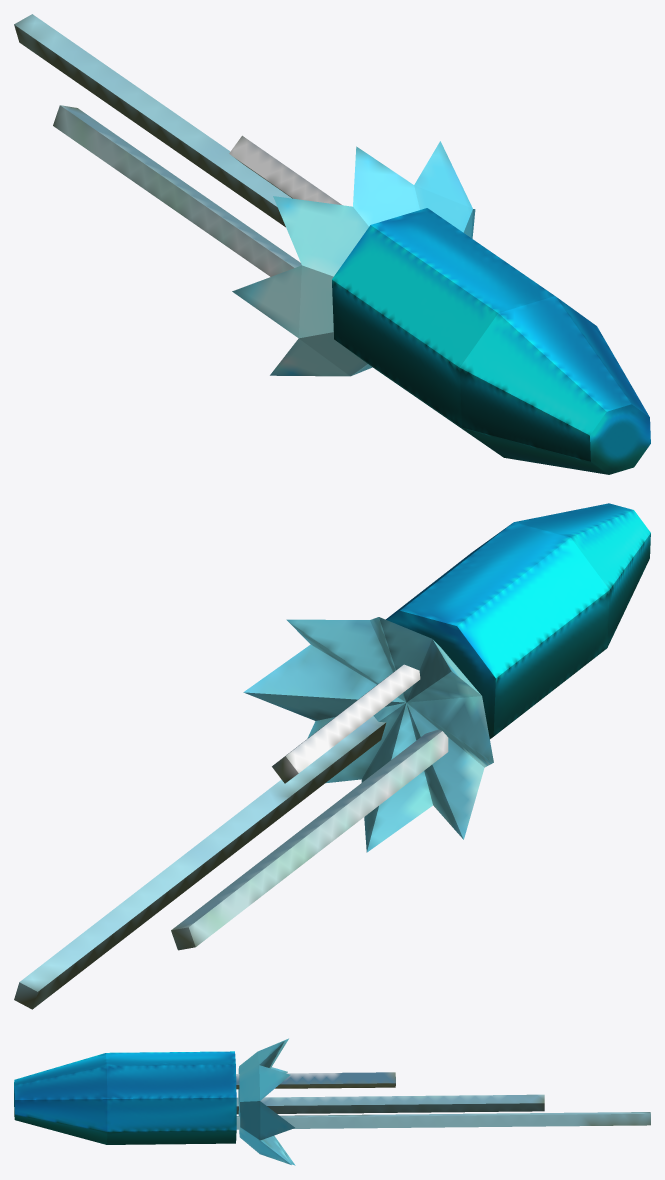
3 renders of one model, top to bottom at view 1: azimuth 30°, elevation 25°; view 2: azimuth 150°, elevation 25°; view 3: azimuth 270°, elevation 25°, orthographic. The views are drawn at different scales.
Parts seen in each view (by area): view 1: Bala_Cylinder.003, Fogonazo_Cylinder.004, Estela_1_Cube.006, Estela_3_Cube.008, Estela_2_Cube.007; view 2: Bala_Cylinder.003, Fogonazo_Cylinder.004, Estela_1_Cube.006, Estela_3_Cube.008, Estela_2_Cube.007; view 3: Bala_Cylinder.003, Estela_1_Cube.006, Estela_3_Cube.008, Fogonazo_Cylinder.004, Estela_2_Cube.007.
Part boxes in pixels (<box>): Bala_Cylinder.003: <box>332,208,650,474</box>; Fogonazo_Cylinder.004: <box>232,141,475,376</box>; Estela_1_Cube.006: <box>14,14,291,227</box>; Estela_3_Cube.008: <box>53,105,301,276</box>; Estela_2_Cube.007: <box>229,135,342,205</box>; Bala_Cylinder.003: <box>386,503,650,738</box>; Fogonazo_Cylinder.004: <box>243,617,493,852</box>; Estela_1_Cube.006: <box>14,716,386,1009</box>; Estela_3_Cube.008: <box>171,729,448,950</box>; Estela_2_Cube.007: <box>272,664,420,783</box>; Bala_Cylinder.003: <box>14,1051,236,1144</box>; Estela_1_Cube.006: <box>236,1112,650,1129</box>; Estela_3_Cube.008: <box>236,1094,544,1114</box>; Fogonazo_Cylinder.004: <box>238,1038,295,1165</box>; Estela_2_Cube.007: <box>236,1072,395,1089</box>.
Size of the model in its own units: 0.4649 by 0.4173 by 1.94.
